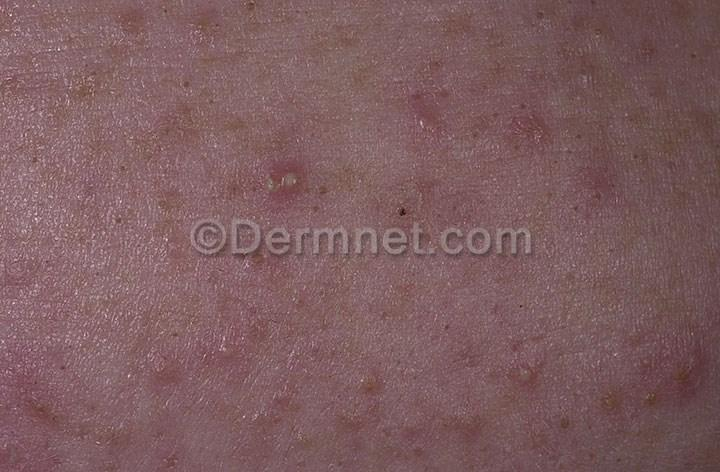Acne: (665, 326, 720, 403), (568, 56, 644, 107), (566, 173, 633, 225), (263, 156, 312, 223), (112, 12, 180, 51), (510, 346, 553, 400), (402, 109, 442, 146), (518, 109, 563, 140)
